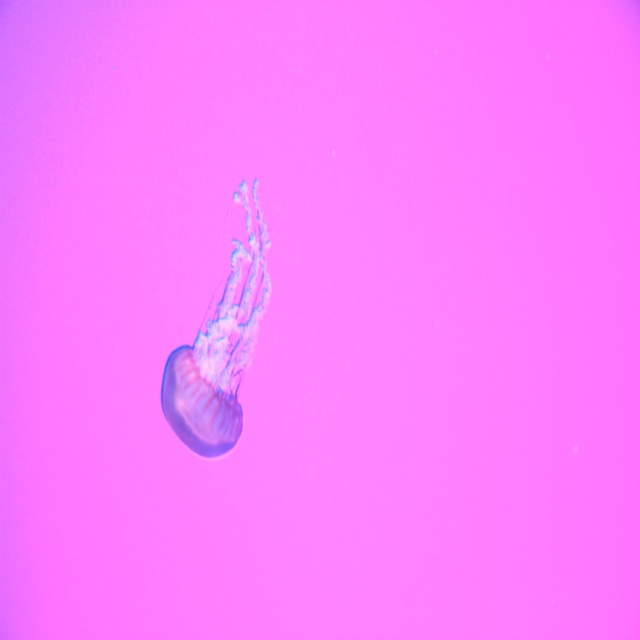Jellyfish: (159, 178, 272, 462)
